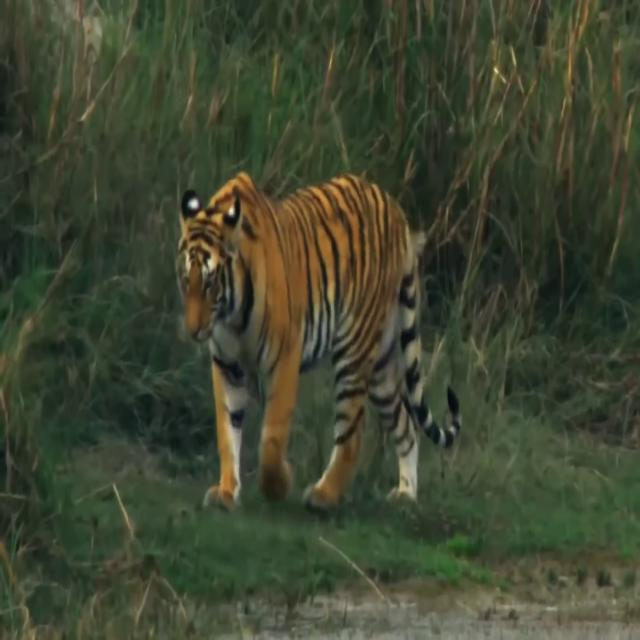tiger: (174, 168, 463, 514)
